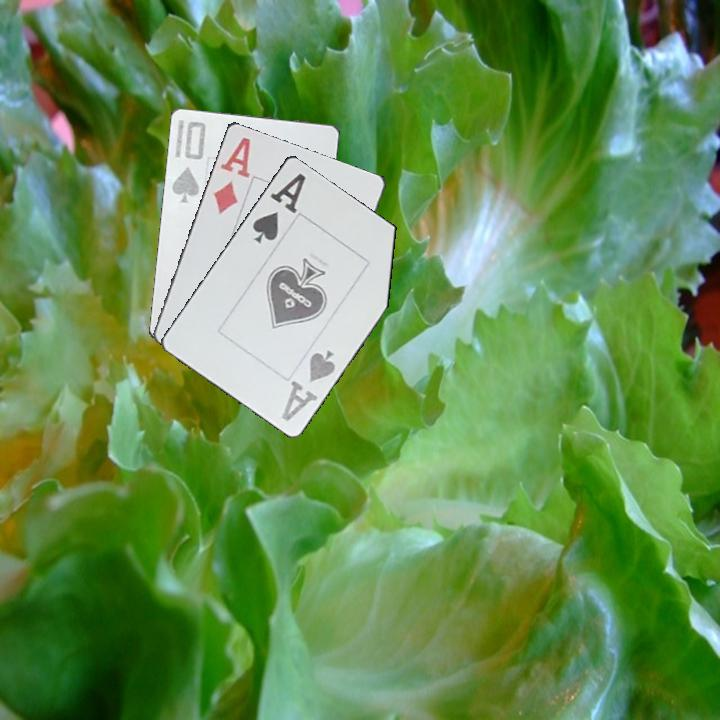Ad: (209, 133, 253, 217)
As: (278, 346, 338, 424), (249, 169, 309, 246)
Ts: (168, 117, 208, 205)
